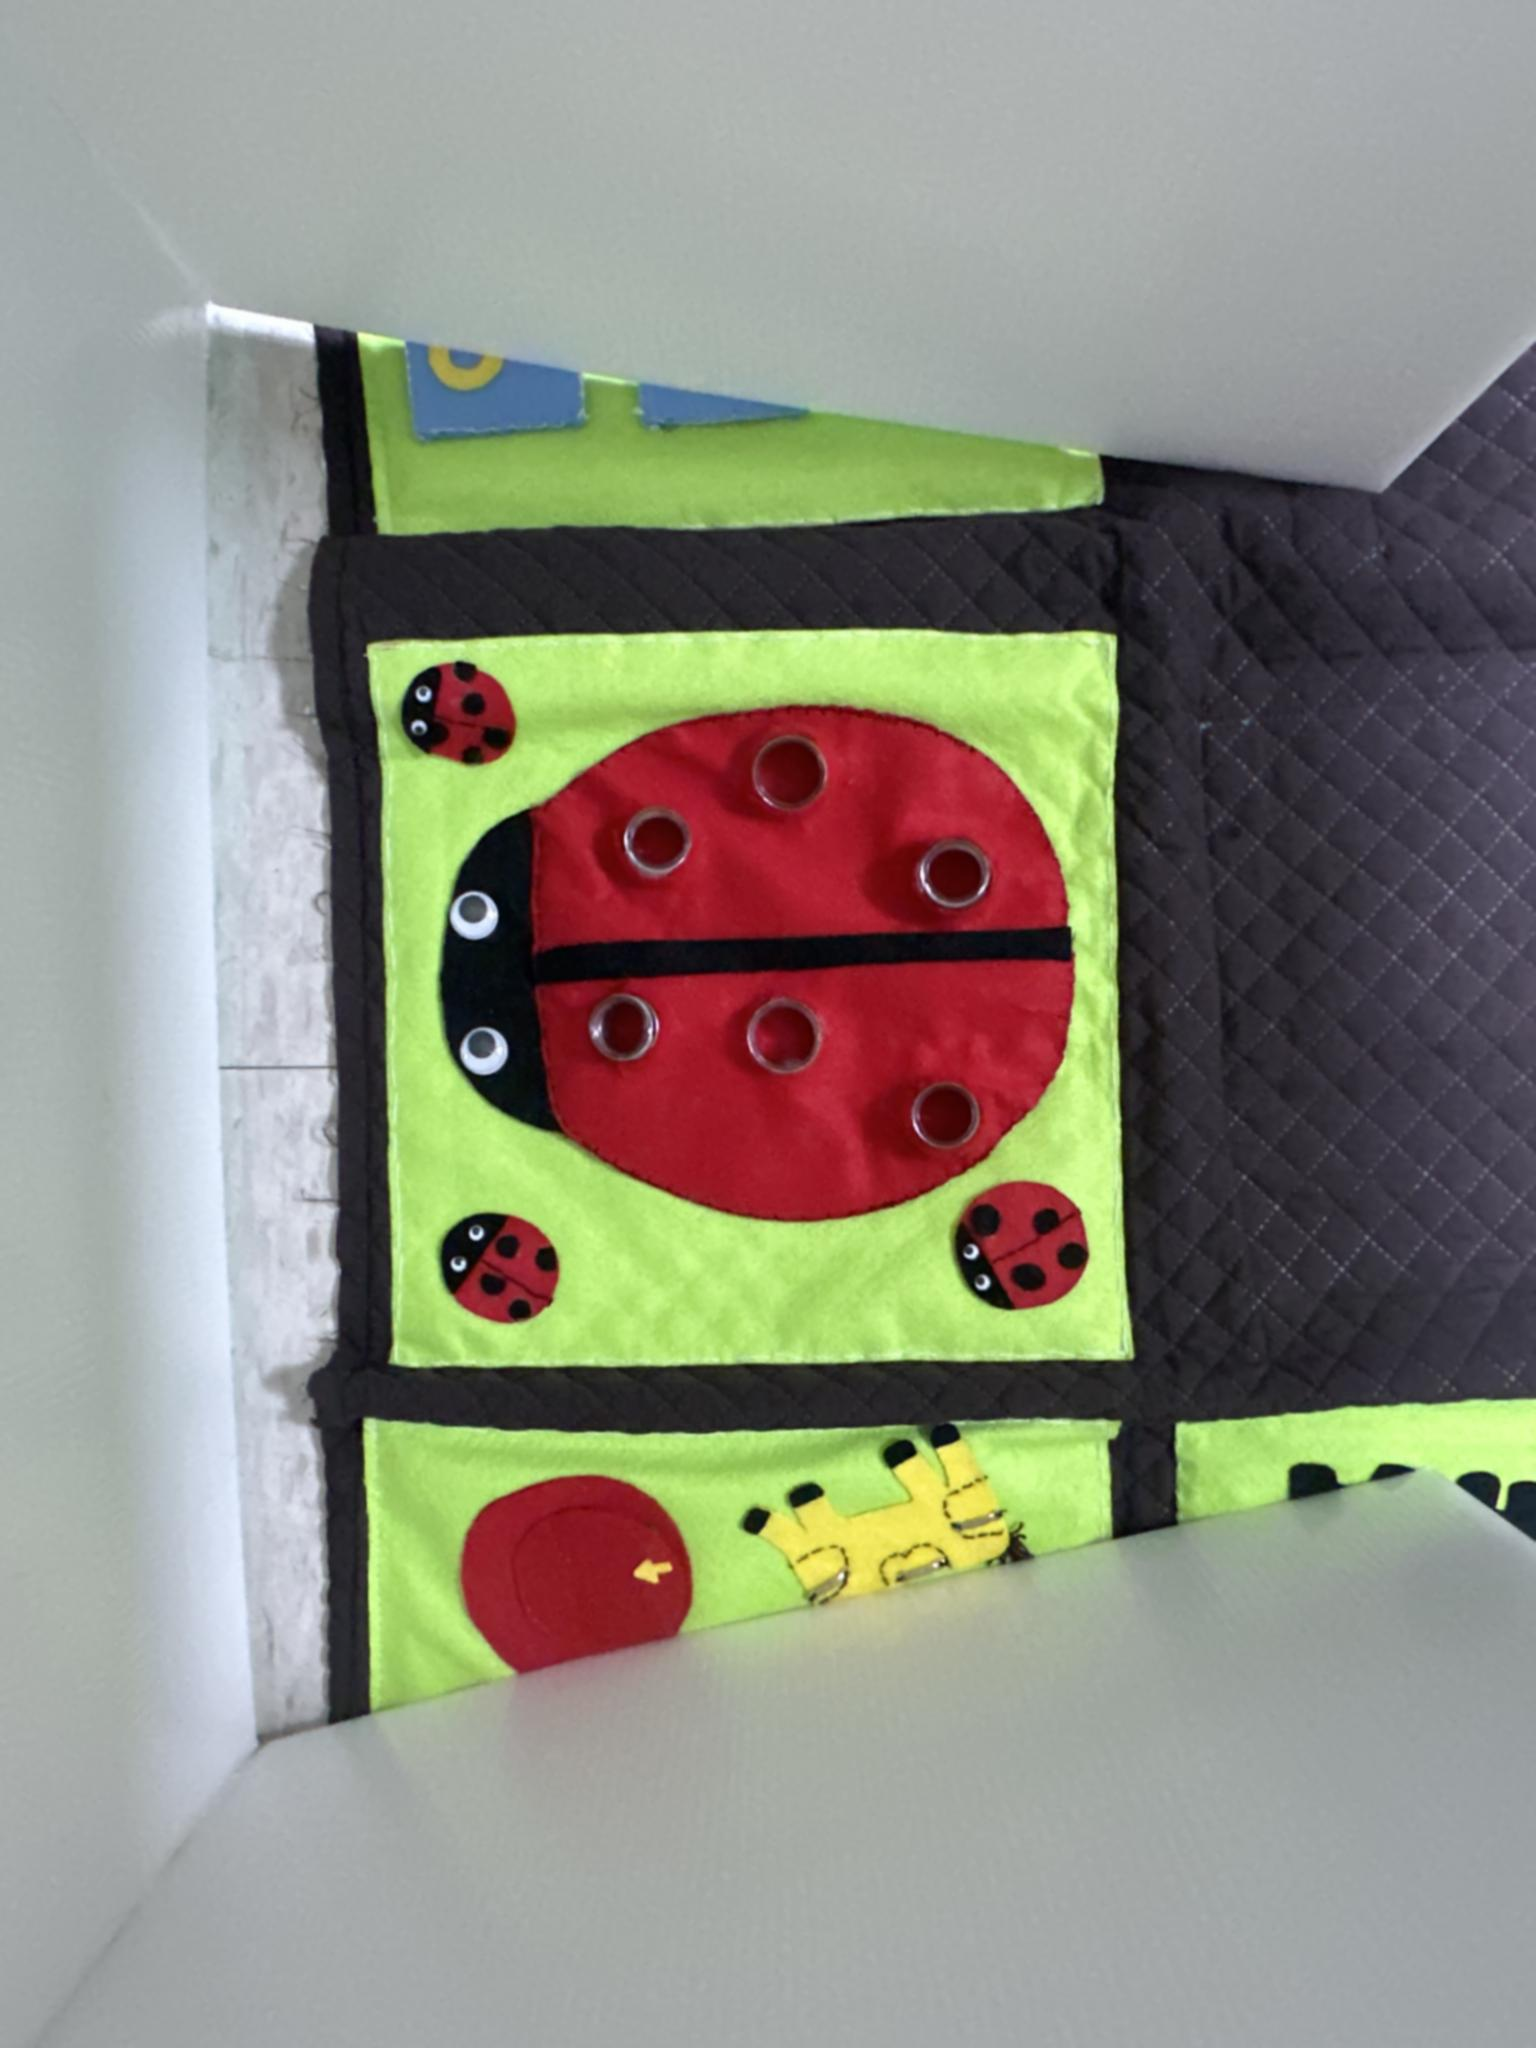hole: (750, 734, 831, 813), (745, 997, 821, 1074), (589, 990, 658, 1059), (918, 839, 987, 908), (623, 808, 694, 874), (913, 1082, 979, 1148)
ladybug_case: (437, 701, 1073, 1229)
